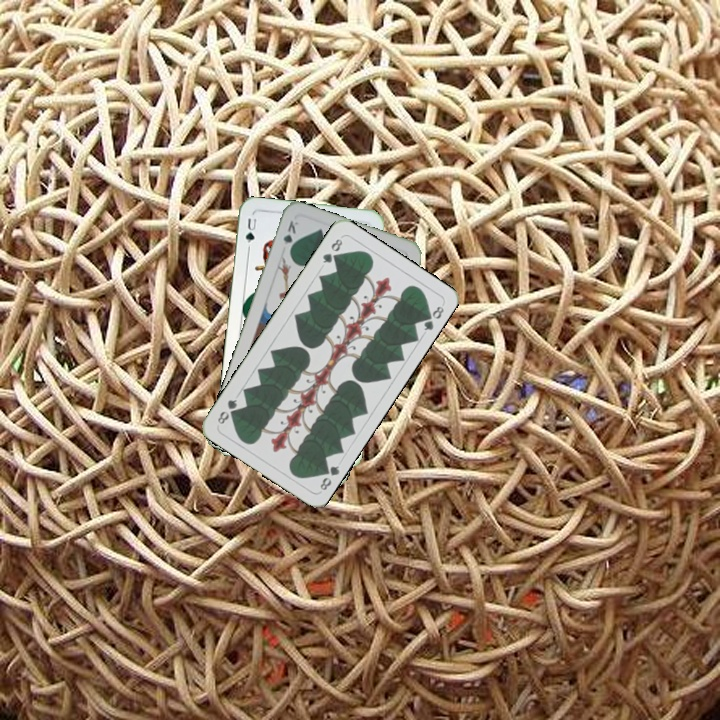G8: (316, 460, 342, 493), (319, 235, 345, 266)
GK: (279, 216, 301, 256)
GU: (241, 213, 259, 245)
